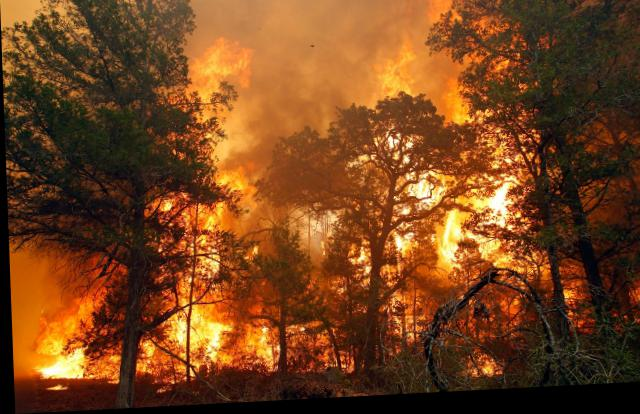fire: (10, 0, 639, 392)
